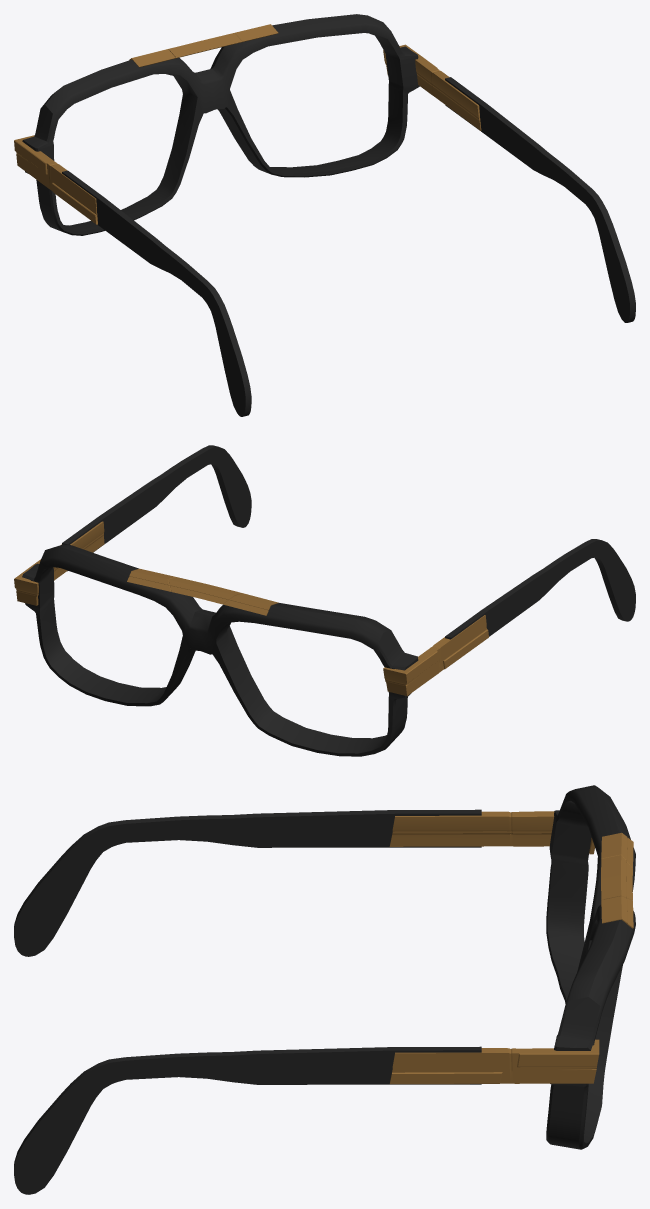
File: sunglasses_model.fbx
3 views of the same model, one above another, from view 1: azimuth 30°, elevation 25°; view 2: azimuth 150°, elevation 25°; view 3: azimuth 270°, elevation 25° (orthographic). The views are drawn at different scales.
Parts seen in each view (by area): view 1: Frame, Temples, Bridge; view 2: Frame, Temples, Bridge; view 3: Temples, Frame, Bridge.
Boxes of the visible parts, <box> form: Frame: <box>22,14,419,235</box>; Temples: <box>14,44,635,416</box>; Bridge: <box>129,24,278,67</box>; Frame: <box>22,544,418,756</box>; Temples: <box>14,445,635,695</box>; Bridge: <box>127,568,278,615</box>; Temples: <box>14,809,599,1194</box>; Frame: <box>546,785,635,1149</box>; Bridge: <box>601,832,633,928</box>.
Size of the model in its own units: 16.44 by 6.28 by 17.77.
